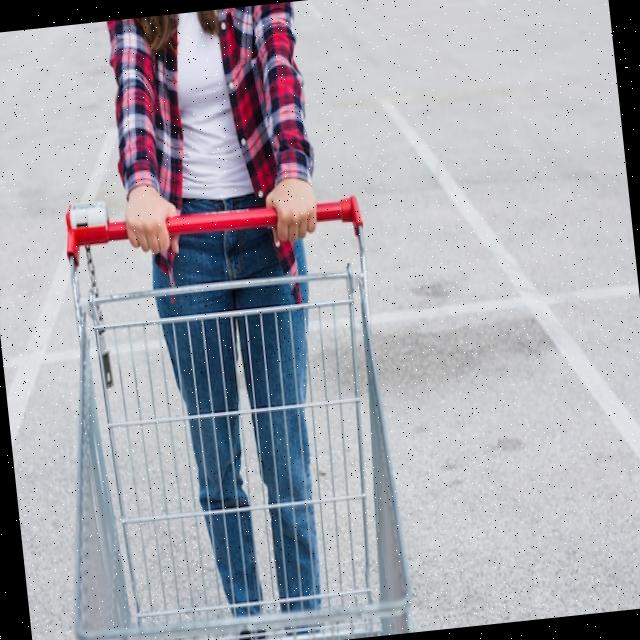Person: (102, 1, 360, 628)
